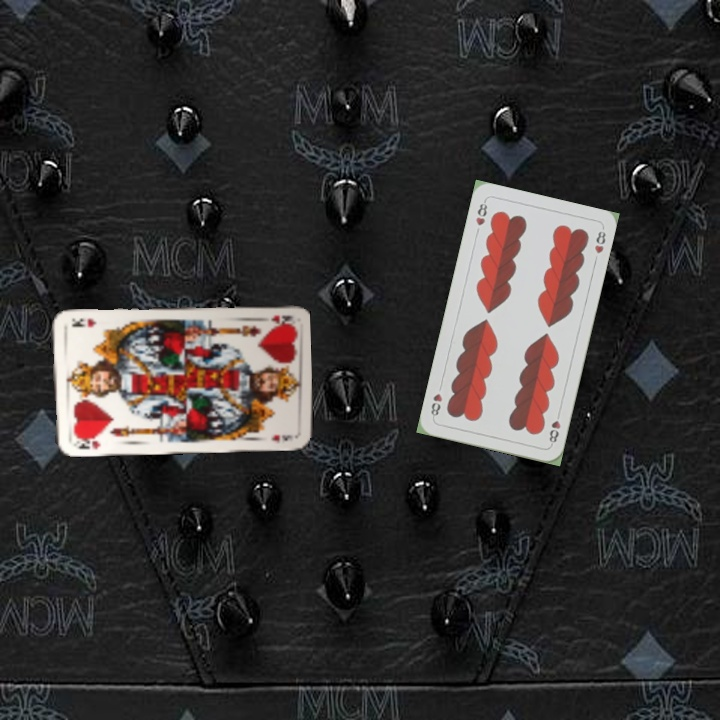H8: (545, 408, 563, 448), (472, 196, 490, 228)
HK: (71, 432, 103, 452), (267, 311, 294, 326)
